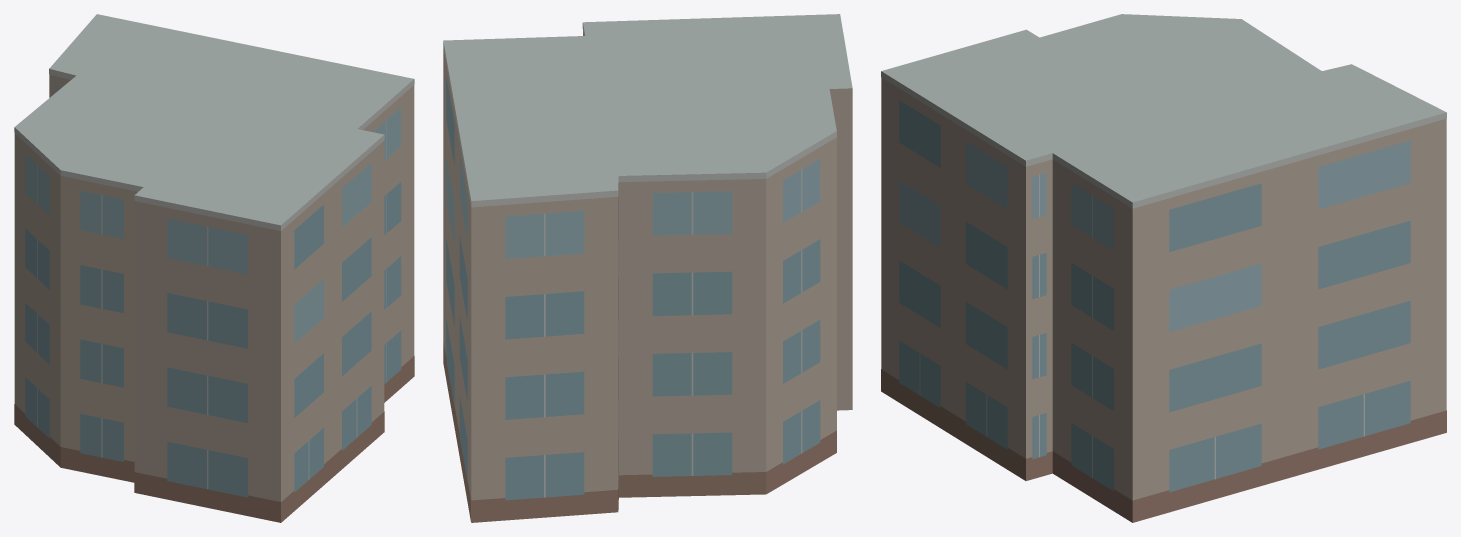
The model's file is survey-upis-32667061.glb.
3 renders of one model, left to right at view 1: azimuth 30°, elevation 25°; view 2: azimuth 150°, elevation 25°; view 3: azimuth 270°, elevation 25°, orthographic. The views are drawn at different scales.
Parts seen in each view (by area): view 1: survey-upis-32667061.tmp; view 2: survey-upis-32667061.tmp; view 3: survey-upis-32667061.tmp.
Part boxes in pixels (bbox=[...]): survey-upis-32667061.tmp: bbox=[14, 14, 414, 522]; survey-upis-32667061.tmp: bbox=[443, 14, 852, 522]; survey-upis-32667061.tmp: bbox=[881, 14, 1446, 522].
Bounding box in the file's own units: 16.04 × 12.7 × 20.33.
